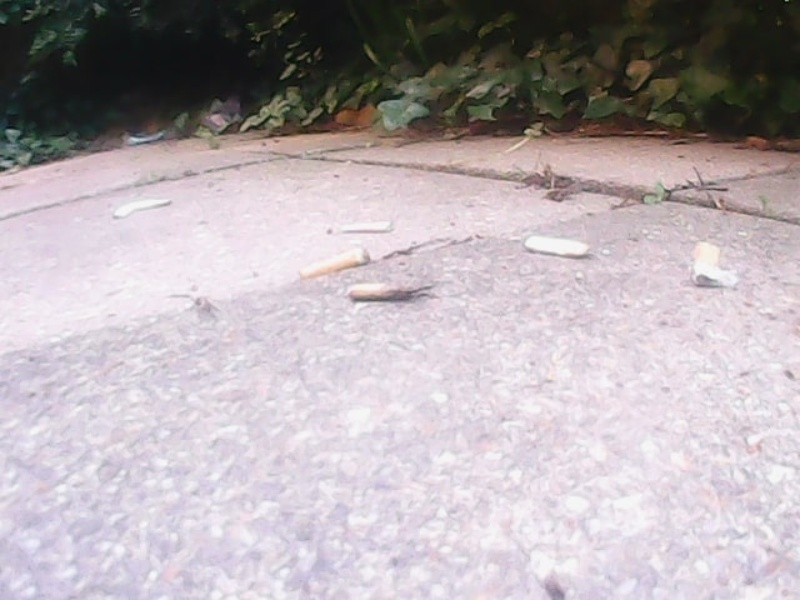cig: (685, 240, 736, 298), (525, 228, 604, 265), (347, 280, 425, 305), (302, 251, 376, 272), (119, 194, 170, 217), (342, 222, 394, 234)
